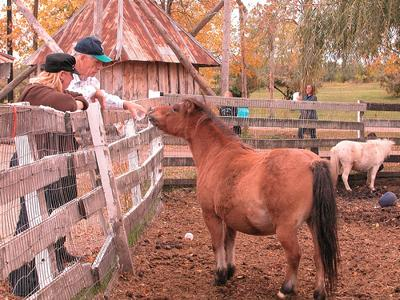person: (51, 37, 148, 271)
